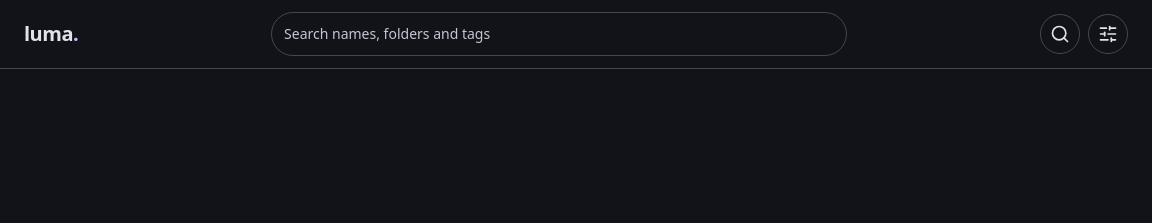
Test: autocompletes and says whether each suggestion is a tag, a folder or a file
Type "bea" into the dropdown named "Search media" at (559, 34), box 271,12 -> 847,56
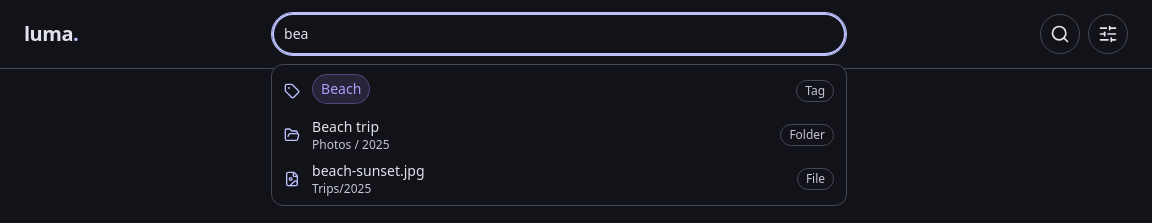
Expected: the option "Beach Tag" is shown, 272,69 -> 846,113
Expected: the option "Beach trip Photos / 2025 Folder" is shown, 272,113 -> 846,157
Expected: the option "beach-sunset.jpg Trips/2025 File" is shown, 272,157 -> 846,201
